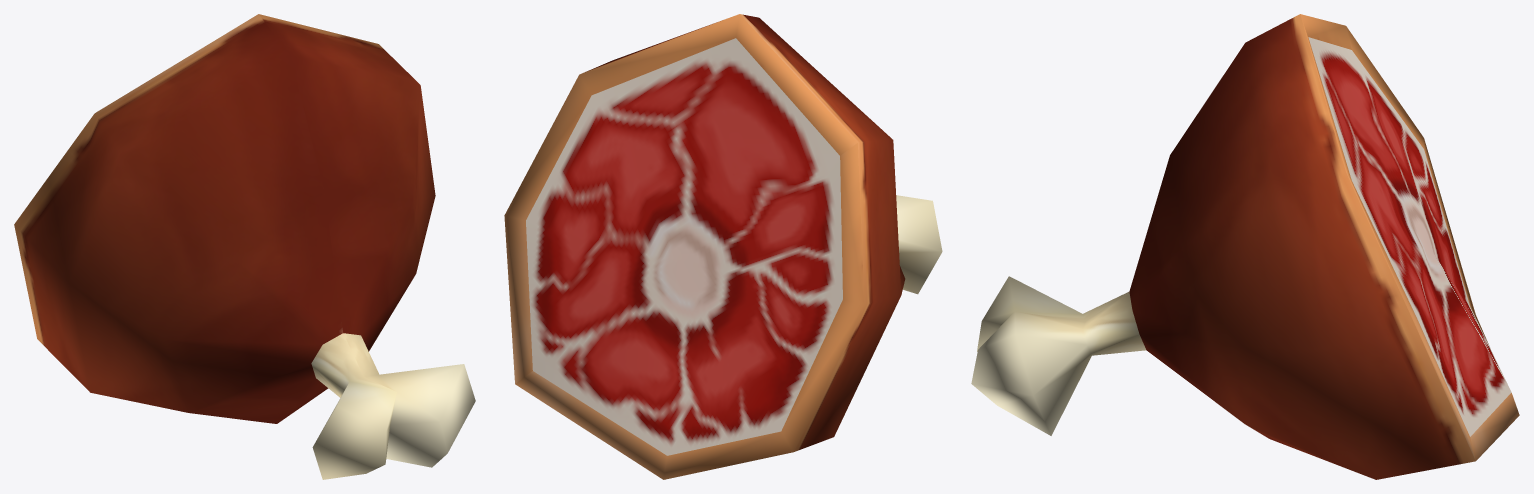
File: SM_PROP_food_meat_06.FBX
3 renders of one model, left to right at view 1: azimuth 30°, elevation 25°; view 2: azimuth 150°, elevation 25°; view 3: azimuth 270°, elevation 25°, orthographic. The views are drawn at different scales.
Parts seen in each view (by area): view 1: SM_PROP_food_meat_06; view 2: SM_PROP_food_meat_06; view 3: SM_PROP_food_meat_06.
Part boxes in pixels (x1=…): SM_PROP_food_meat_06: x1=14, y1=14, x2=475, y2=479; SM_PROP_food_meat_06: x1=504, y1=14, x2=942, y2=479; SM_PROP_food_meat_06: x1=971, y1=14, x2=1519, y2=479.
Bounding box in the file's own units: 36.91 × 44.83 × 38.67.
